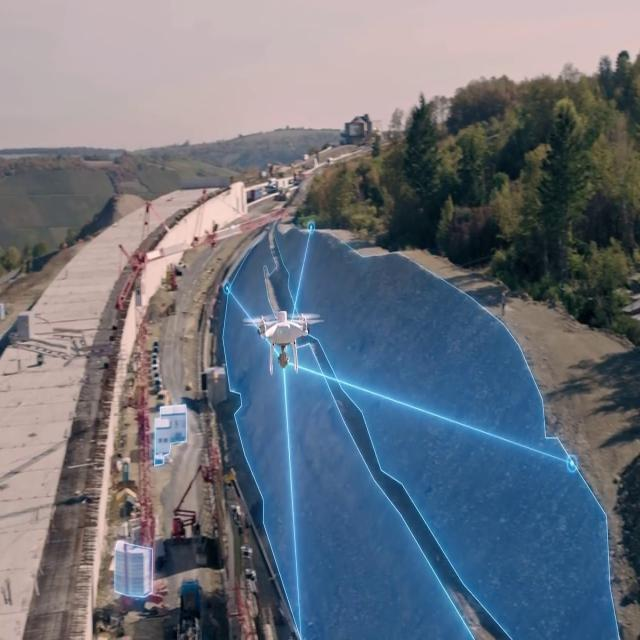drone: (241, 305, 323, 379)
